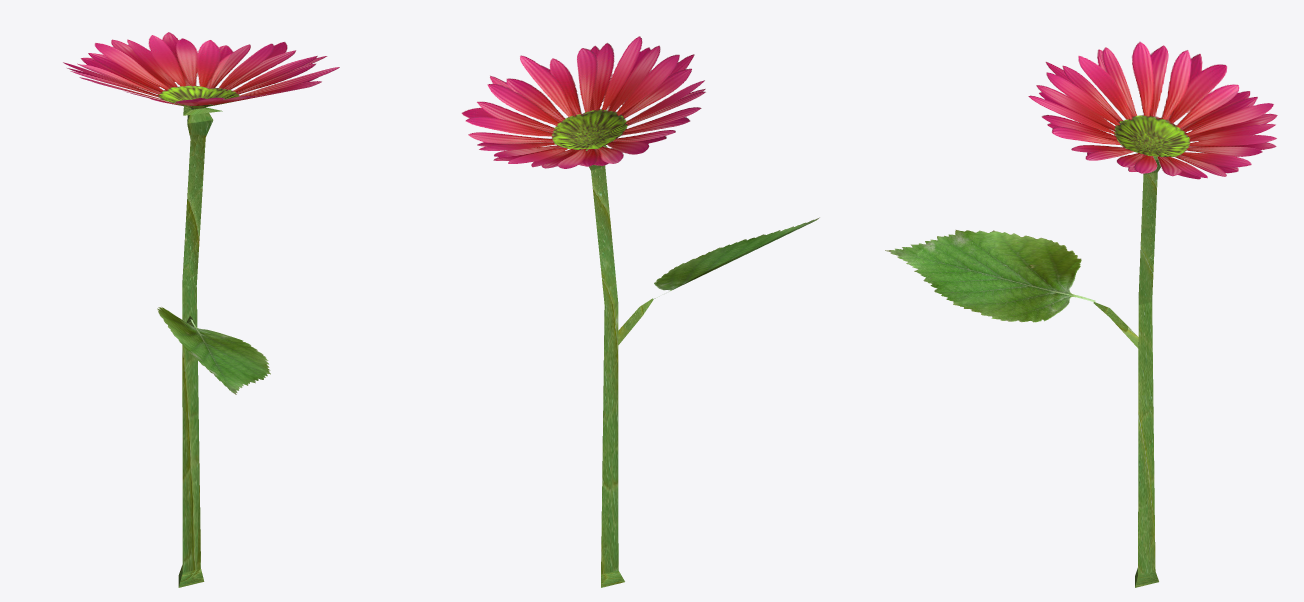
File: flower1.obj
3 views of the same model, side by side, from view 1: azimuth 30°, elevation 25°; view 2: azimuth 150°, elevation 25°; view 3: azimuth 270°, elevation 25° (orthographic). The views are drawn at different scales.
Visible parts, largest first — view 1: Circle; view 2: Circle; view 3: Circle.
Part boxes in pixels (x1,y1,x2,y2): Circle: (63, 32, 339, 587); Circle: (461, 36, 819, 587); Circle: (885, 41, 1277, 587).
Bounding box in the file's own units: 3.84 × 7.65 × 5.58.
